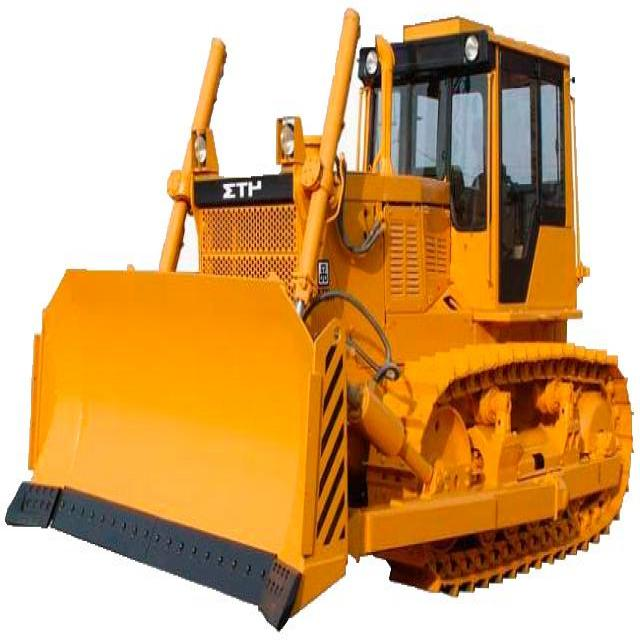Bulldozer: (24, 11, 634, 616)
